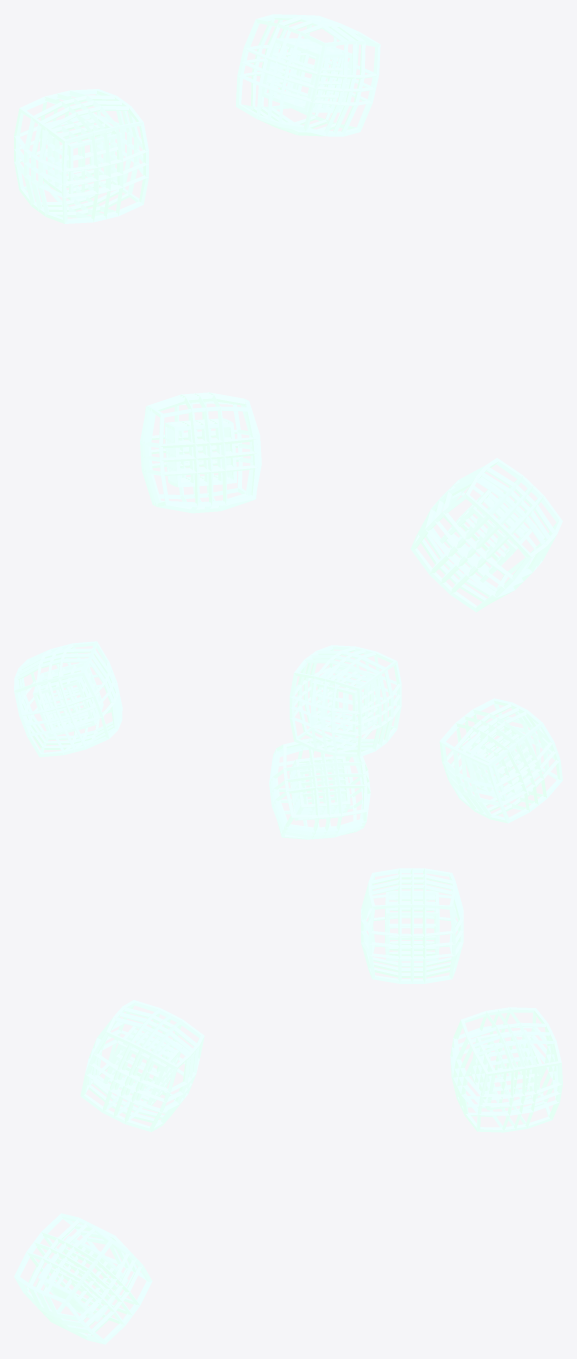
File: 4some.glb
3 renders of one model, top to bottom at view 1: azimuth 30°, elevation 25°; view 2: azimuth 150°, elevation 25°; view 3: azimuth 270°, elevation 25°, orthographic. The views are drawn at different scales.
Visible parts, largest first — view 1: Cube.003, Cube.001, Cube.002, Cube; view 2: Cube, Cube.003, Cube.001, Cube.002; view 3: Cube.001, Cube, Cube.002, Cube.003.
Boxes of the visible parts, bbox=[...] form: Cube.003: bbox=[14, 89, 148, 223]; Cube.001: bbox=[236, 14, 380, 136]; Cube.002: bbox=[410, 458, 562, 612]; Cube: bbox=[140, 392, 261, 513]; Cube: bbox=[439, 698, 562, 823]; Cube.003: bbox=[289, 645, 401, 757]; Cube.001: bbox=[14, 641, 122, 757]; Cube.002: bbox=[269, 737, 370, 839]; Cube.001: bbox=[450, 1007, 562, 1132]; Cube: bbox=[80, 1000, 204, 1132]; Cube.002: bbox=[14, 1213, 152, 1344]; Cube.003: bbox=[361, 868, 463, 983].
Size of the model in its own units: 17.71 by 16.15 by 22.22.
